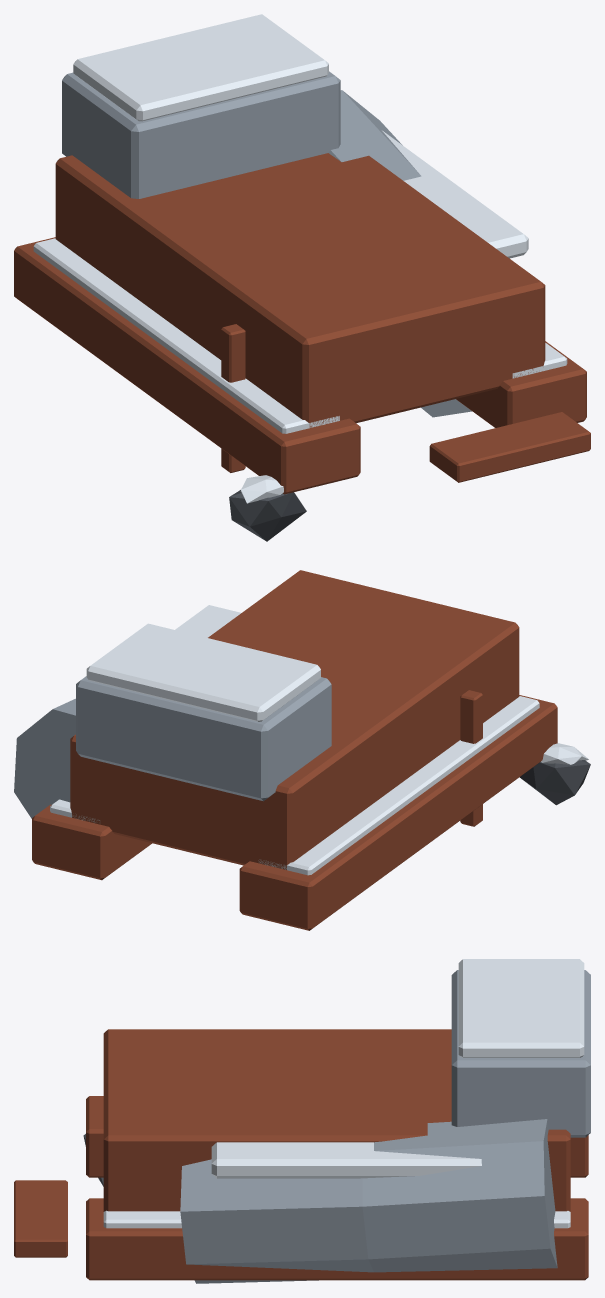
File: Frontier_Prop_Wreck.fbx
3 renders of one model, top to bottom at view 1: azimuth 30°, elevation 25°; view 2: azimuth 150°, elevation 25°; view 3: azimuth 270°, elevation 25°, orthographic. The views are drawn at different scales.
Parts seen in each view (by area): view 1: Frontier_Prop_Wreck; view 2: Frontier_Prop_Wreck; view 3: Frontier_Prop_Wreck.
Part boxes in pixels (x1,y1,x2,y2): Frontier_Prop_Wreck: (14, 14, 590, 541); Frontier_Prop_Wreck: (14, 570, 590, 930); Frontier_Prop_Wreck: (14, 959, 590, 1283).
Bounding box in the file's own units: 464 × 318 × 642.
